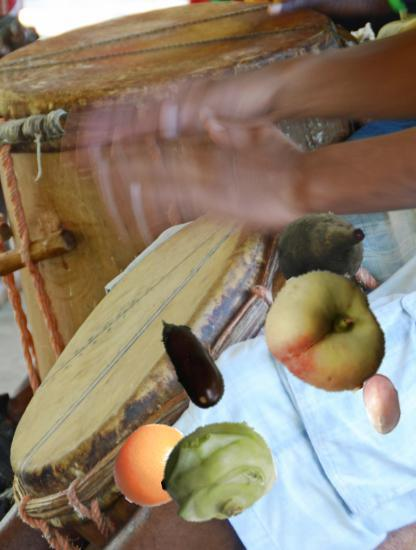Beetroot: (275, 204, 371, 300)
Eggplant: (138, 310, 243, 415)
Grapefruit: (110, 422, 197, 509)
Hazelnut: (349, 371, 414, 436)
Kiwi: (262, 234, 354, 326)
Kohlrabi: (160, 414, 275, 529)
Peach: (260, 268, 392, 400)
